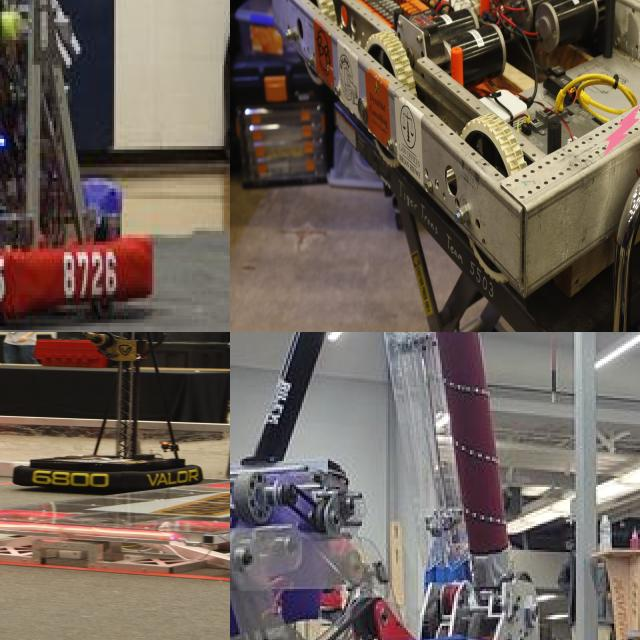FRC-Robots: (230, 332, 602, 640), (247, 0, 640, 259), (0, 0, 178, 310), (0, 332, 191, 498)
